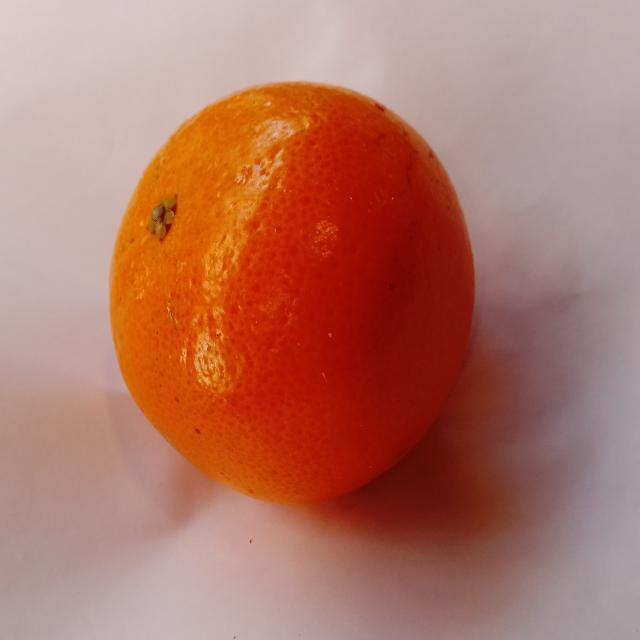orange: (111, 84, 473, 503)
